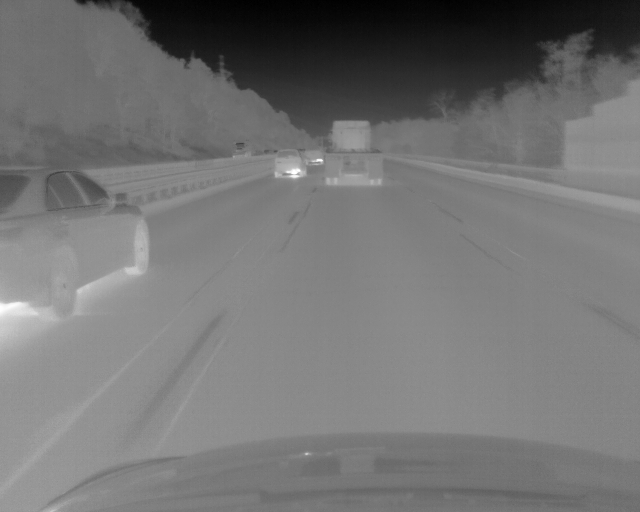car: (1, 167, 151, 320), (325, 120, 383, 186), (274, 148, 306, 177), (304, 148, 325, 165), (231, 141, 251, 157)
